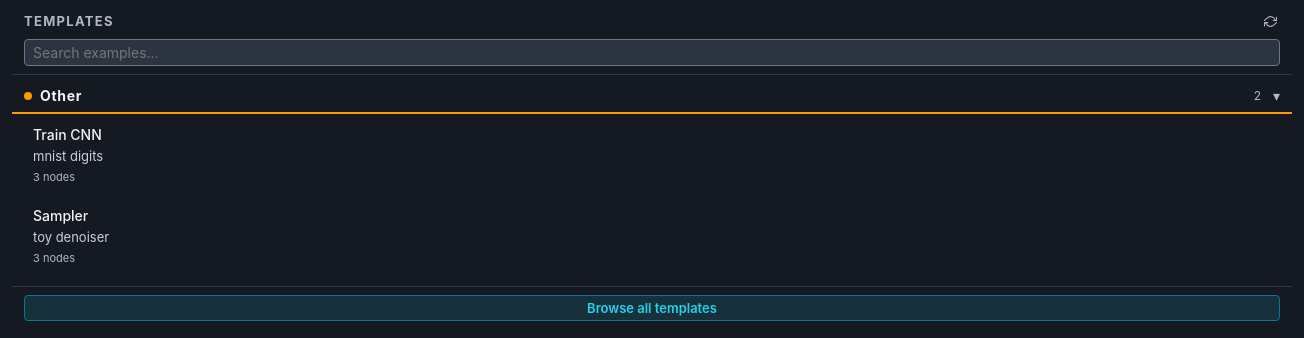
Test case: TemplatesTab › filters by name, description, and category
Expected: the text "Train CNN" is shown, left=33, top=126, right=102, bottom=143
Step 1. Type "train" into the field with placeholder "Search examples..." → {"x": 652, "y": 53}, box left=24, top=39, right=1280, bottom=66
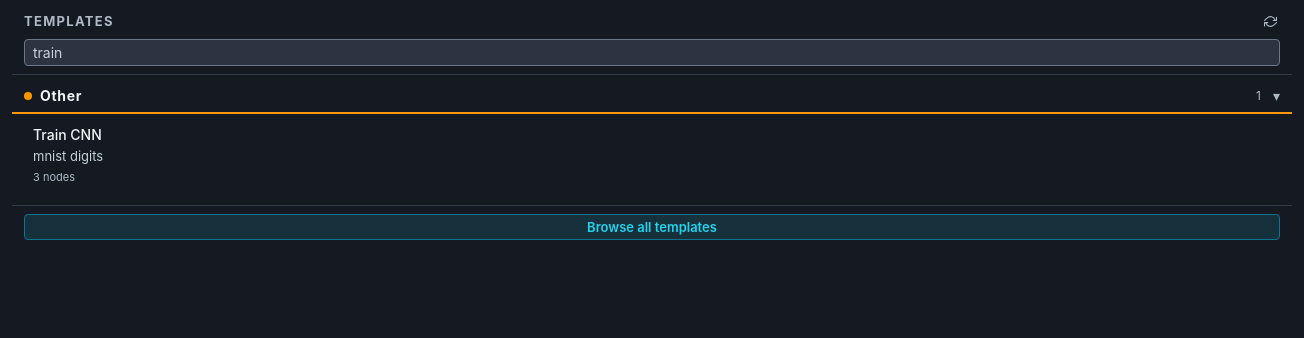
Expected: the text "Train CNN" is shown, left=33, top=126, right=102, bottom=143
Now the button "Sampler" is gone
Step 2. Replace the text in the field with placeholder "Search examples..." with "denoiser" → {"x": 652, "y": 53}, box left=24, top=39, right=1280, bottom=66
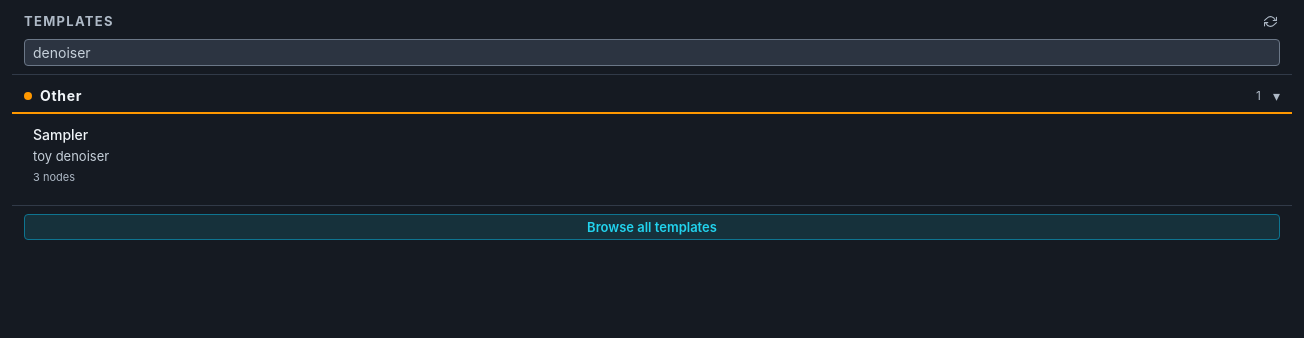
Now the text "Sampler" is shown, box left=33, top=126, right=88, bottom=143
Step 3. Replace the text in the field with placeholder "Search examples..." with "diffusion" → {"x": 652, "y": 53}, box left=24, top=39, right=1280, bottom=66
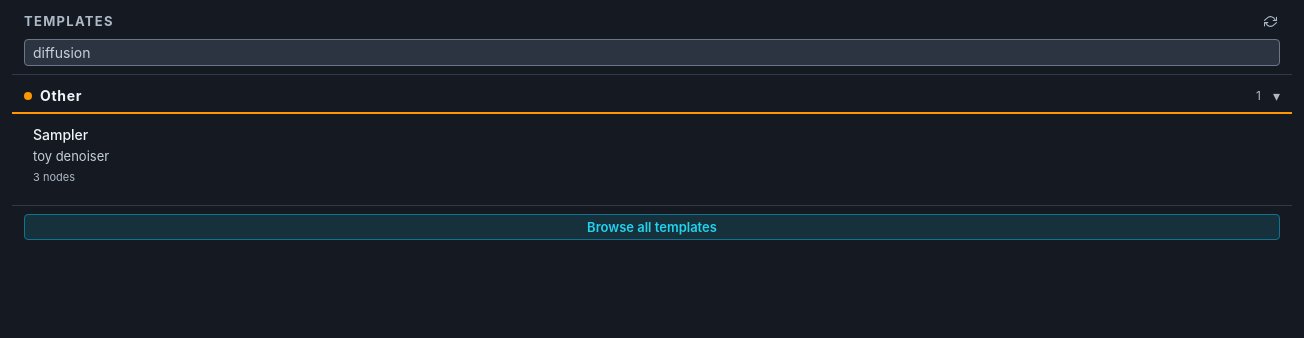
Expected: the button "Train CNN" is not shown
Now the text "Sampler" is shown, box left=33, top=126, right=88, bottom=143
Step 4. Replace the text in the field with placeholder "Search examples..." with "zzzz" → {"x": 652, "y": 53}, box left=24, top=39, right=1280, bottom=66
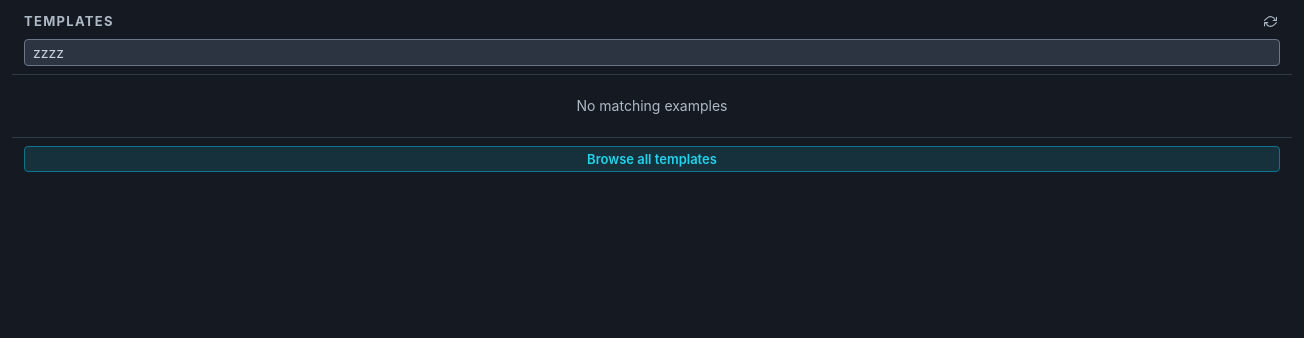
Now the text "No matching examples" is shown, box left=576, top=97, right=728, bottom=114
